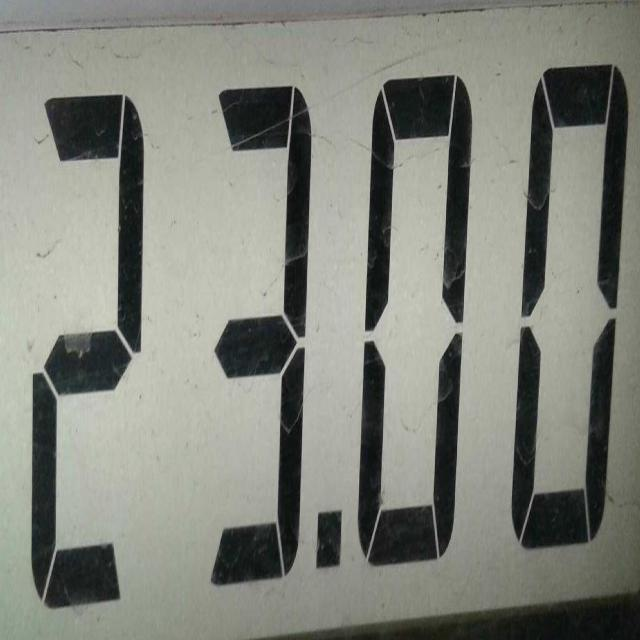.: (311, 464, 350, 619)
0: (358, 70, 473, 572), (513, 59, 628, 552)
2: (27, 0, 146, 640)
3: (205, 32, 312, 638)
